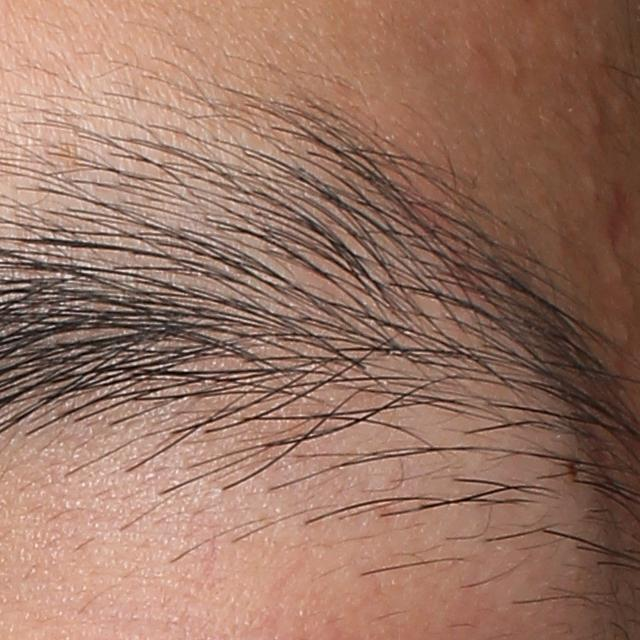comedo: (584, 173, 599, 199)
